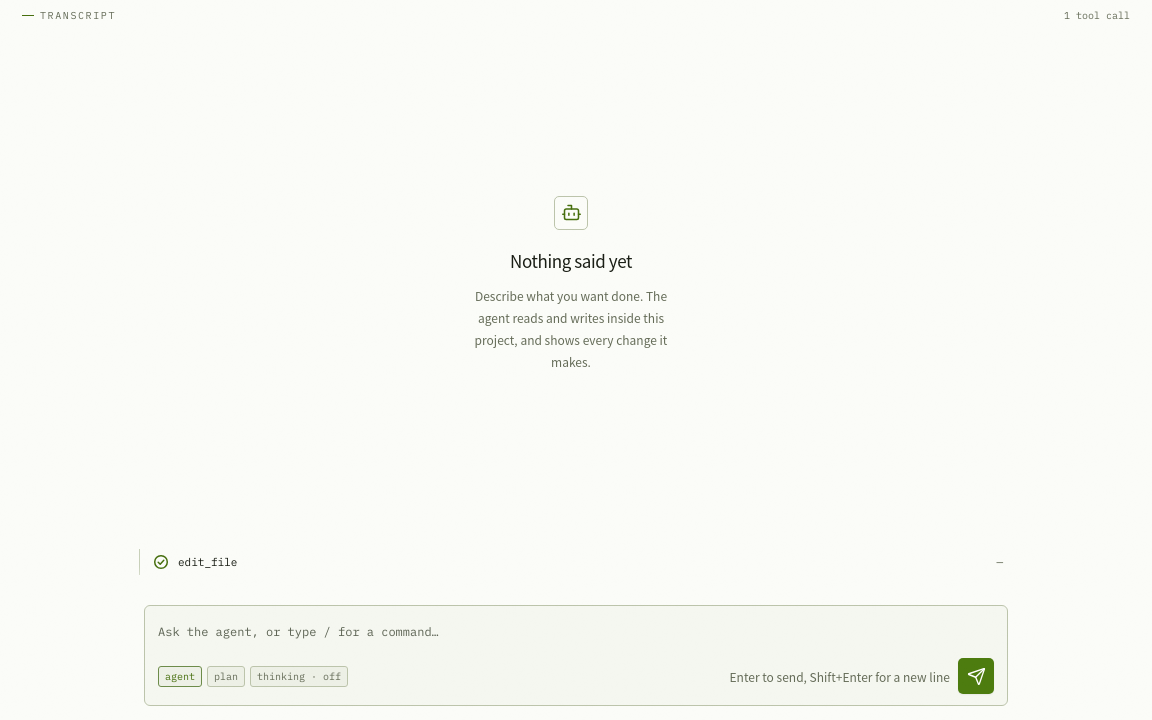
Test: ChatView: what a finished edit offers next › offers the actions for an edit that finished, once the turn is over
Click the button "edit_file —".
click(208, 562)  # box [154, 549, 1003, 575]
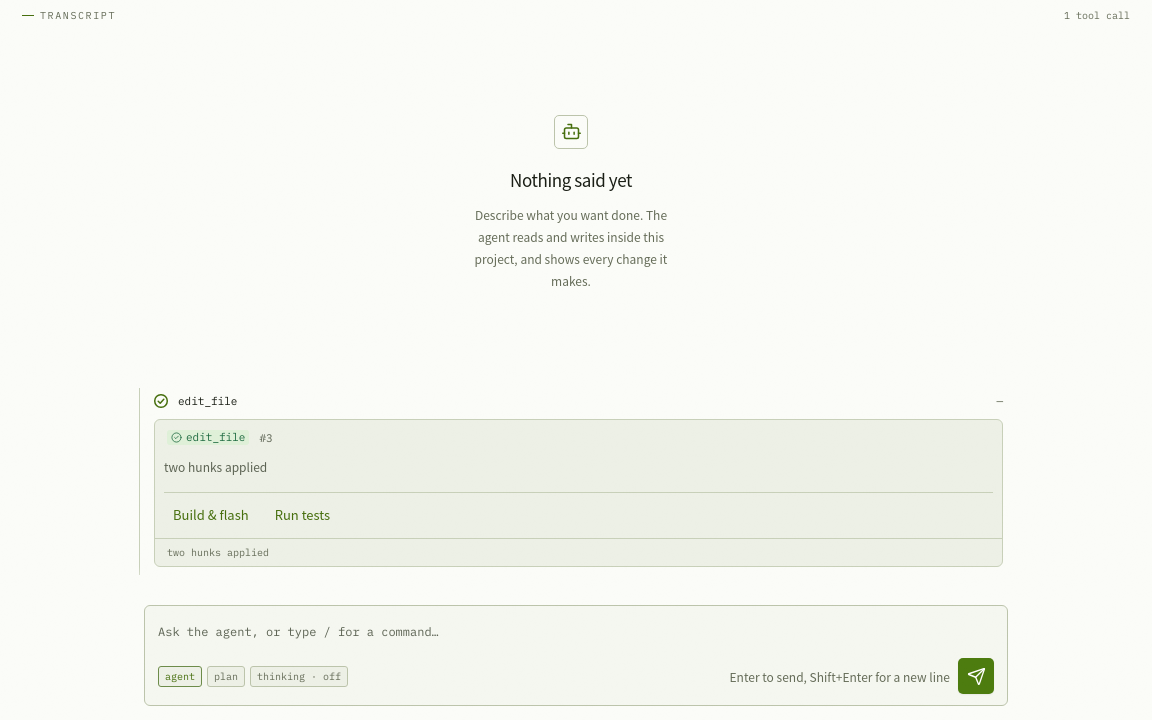
Expected: the button "Build & flash" is shown, [164, 501, 258, 529]
